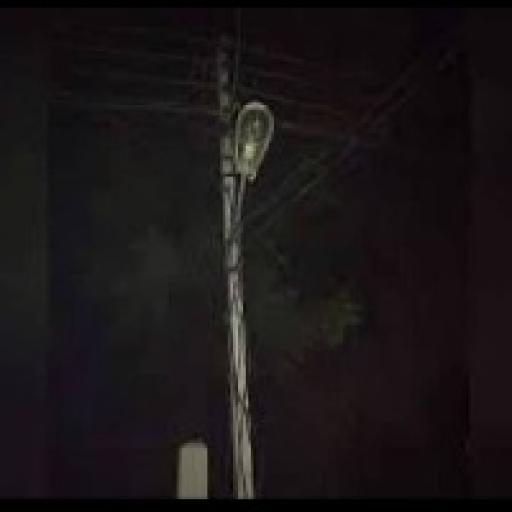Not Working: (215, 91, 292, 197)
